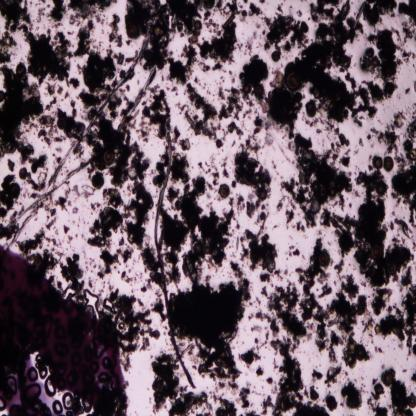Air bubble: (84, 288, 100, 322), (42, 376, 56, 398), (51, 396, 63, 416), (62, 392, 74, 410)
Background material: (265, 1, 362, 128), (170, 264, 250, 381), (354, 170, 413, 291), (279, 134, 354, 228), (166, 177, 235, 269), (272, 337, 328, 416), (0, 63, 44, 156), (296, 239, 330, 351), (126, 0, 201, 50), (105, 292, 161, 355), (374, 284, 416, 358), (20, 25, 72, 81), (125, 143, 151, 250), (180, 82, 220, 142), (199, 14, 238, 75), (268, 286, 306, 346), (79, 50, 116, 110), (361, 29, 402, 81), (343, 71, 377, 128), (324, 294, 368, 338), (150, 352, 184, 408), (238, 54, 268, 114), (238, 229, 278, 273), (390, 164, 416, 228), (264, 14, 308, 51), (88, 208, 126, 250), (146, 83, 171, 146), (314, 119, 352, 160), (234, 148, 270, 190), (166, 47, 198, 88), (66, 0, 118, 23), (320, 207, 358, 236), (60, 253, 86, 294), (216, 84, 244, 122), (370, 122, 402, 155), (140, 246, 162, 294), (84, 113, 115, 147), (169, 390, 210, 415), (0, 0, 31, 33), (56, 106, 86, 139), (362, 0, 398, 27), (116, 134, 134, 186), (17, 142, 47, 172), (390, 378, 412, 416), (369, 285, 393, 319), (229, 194, 261, 219), (339, 381, 364, 410), (18, 168, 47, 193), (170, 150, 191, 184), (309, 0, 341, 22), (0, 172, 15, 218), (247, 117, 264, 157), (17, 228, 44, 253), (30, 250, 58, 274), (75, 22, 94, 56), (42, 193, 67, 217), (152, 153, 167, 193), (37, 112, 55, 145), (198, 162, 221, 187), (142, 48, 168, 70), (212, 393, 236, 416), (0, 32, 17, 64), (361, 80, 384, 103), (327, 330, 343, 363), (102, 186, 124, 210), (324, 362, 344, 388), (109, 12, 123, 48), (397, 0, 415, 27), (100, 248, 120, 272), (239, 347, 261, 368), (70, 183, 94, 202), (150, 296, 166, 324), (342, 275, 359, 301), (213, 380, 239, 397), (50, 0, 67, 25), (215, 1, 240, 18), (401, 139, 416, 167), (393, 218, 412, 240), (238, 385, 254, 410), (368, 379, 386, 401), (120, 269, 142, 287), (0, 223, 19, 242), (390, 110, 408, 130), (256, 210, 271, 233), (368, 400, 389, 416), (399, 21, 414, 43), (399, 266, 414, 288), (109, 100, 124, 121), (342, 349, 357, 370), (244, 30, 257, 54), (230, 261, 245, 281), (248, 312, 272, 324), (44, 80, 63, 95), (120, 246, 135, 264), (255, 332, 270, 350), (324, 396, 338, 414), (226, 123, 244, 137), (333, 258, 347, 276), (260, 395, 273, 414), (362, 315, 375, 334), (401, 48, 416, 64), (258, 270, 273, 286), (394, 155, 406, 174), (35, 5, 47, 24), (249, 3, 264, 18), (406, 118, 416, 140), (221, 156, 230, 180), (44, 96, 57, 112), (319, 283, 331, 300), (170, 126, 181, 144), (310, 367, 323, 382), (178, 138, 193, 151), (216, 130, 226, 149), (309, 385, 320, 401), (284, 208, 294, 225), (44, 220, 58, 232), (249, 323, 264, 334), (276, 193, 285, 211), (96, 264, 106, 280), (288, 244, 300, 257), (296, 219, 306, 234), (67, 78, 79, 90), (340, 156, 352, 168), (264, 135, 275, 148), (8, 159, 16, 174), (260, 285, 268, 300), (238, 410, 258, 416), (256, 365, 264, 378), (276, 2, 285, 13), (240, 9, 247, 22), (275, 269, 283, 280), (62, 226, 71, 235), (389, 220, 395, 231), (410, 373, 416, 384), (266, 376, 274, 384), (366, 132, 372, 140), (404, 88, 411, 94), (413, 79, 416, 93), (392, 238, 400, 243)
Cellulose filter fibre: (10, 37, 148, 251), (6, 66, 157, 230)
Diatom: (8, 181, 22, 200), (287, 72, 301, 91), (339, 233, 352, 253), (370, 244, 383, 262), (126, 23, 139, 39), (318, 250, 330, 267), (92, 174, 104, 190), (383, 155, 394, 172), (103, 149, 114, 166), (382, 371, 394, 386), (306, 99, 316, 117), (219, 182, 230, 198), (364, 45, 375, 61), (355, 345, 366, 360), (375, 181, 386, 196), (372, 156, 383, 170), (347, 339, 357, 354), (387, 262, 398, 275), (201, 0, 215, 10), (384, 82, 394, 96), (407, 394, 416, 409), (242, 83, 252, 96), (258, 188, 268, 200), (193, 244, 203, 256), (327, 186, 337, 198), (272, 50, 280, 62), (194, 19, 202, 30), (235, 236, 239, 251)
Microfibre: (154, 132, 196, 388)
Pen: (0, 244, 128, 415)
